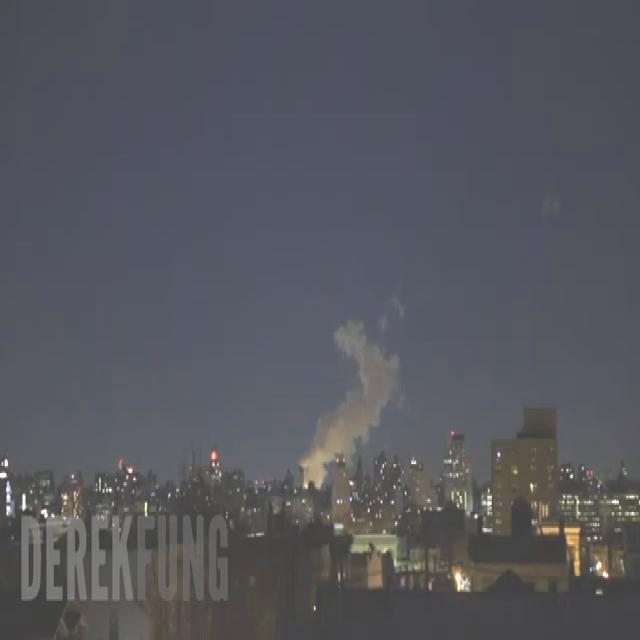smoke: (300, 320, 397, 485)
